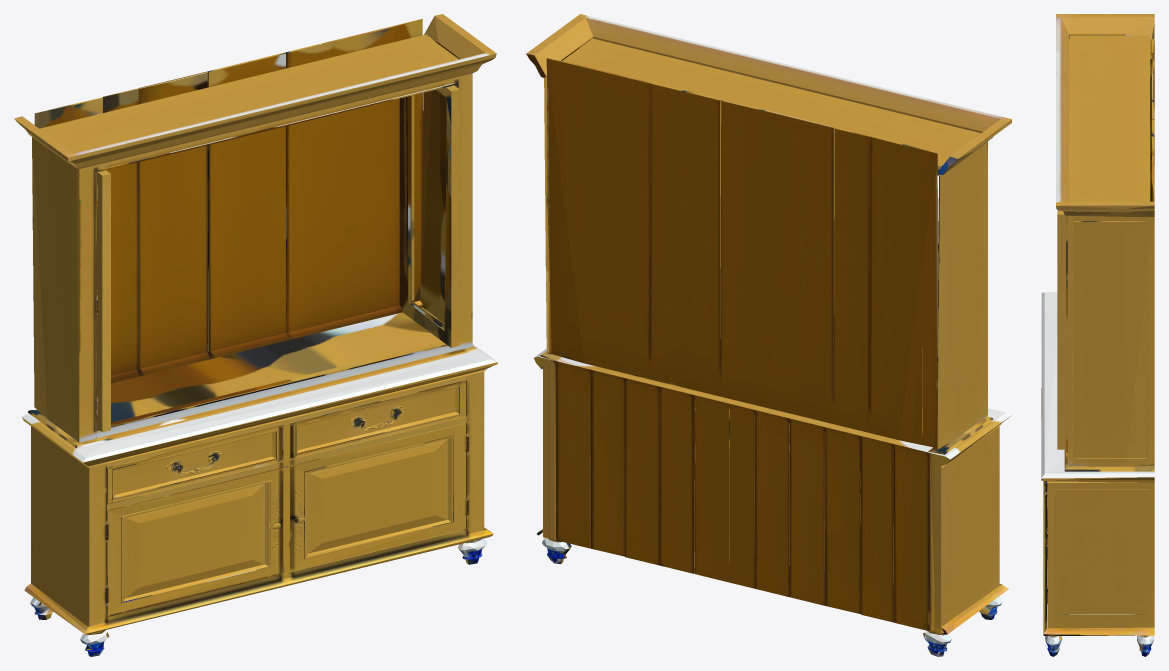
The model's file is edited_mesh.glb.
3 renders of one model, left to right at view 1: azimuth 30°, elevation 25°; view 2: azimuth 150°, elevation 25°; view 3: azimuth 270°, elevation 25°, orthographic. The views are drawn at different scales.
Parts seen in each view (by area): view 1: solid_001_wire; view 2: solid_001_wire; view 3: solid_001_wire.
Boxes of the visible parts, x1,y1,x2,y2 form: solid_001_wire: [14, 14, 497, 656]; solid_001_wire: [526, 14, 1012, 656]; solid_001_wire: [1041, 14, 1154, 656].
Bounding box in the file's own units: 1.23 × 1.38 × 0.3083.
1 material, 1 textured.
